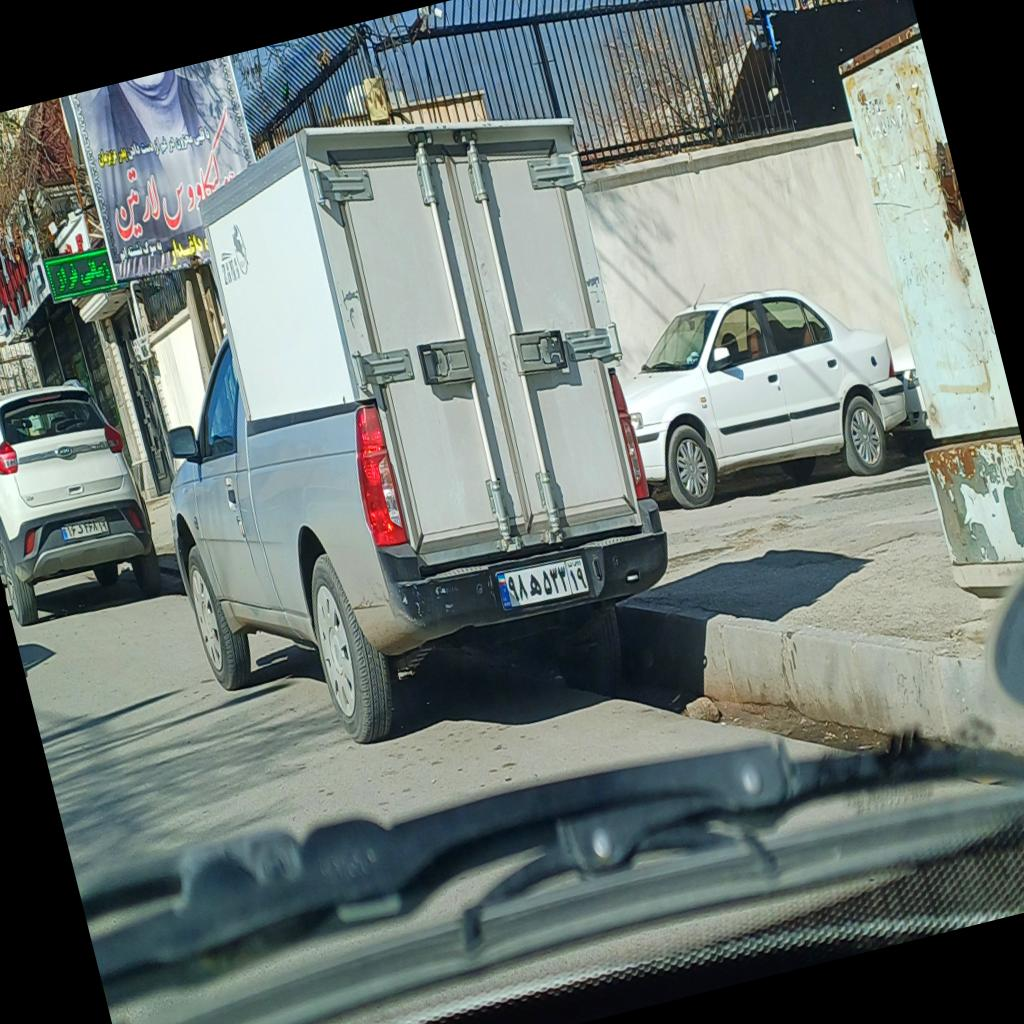Plates: (494, 552, 590, 610), (59, 513, 109, 542)
